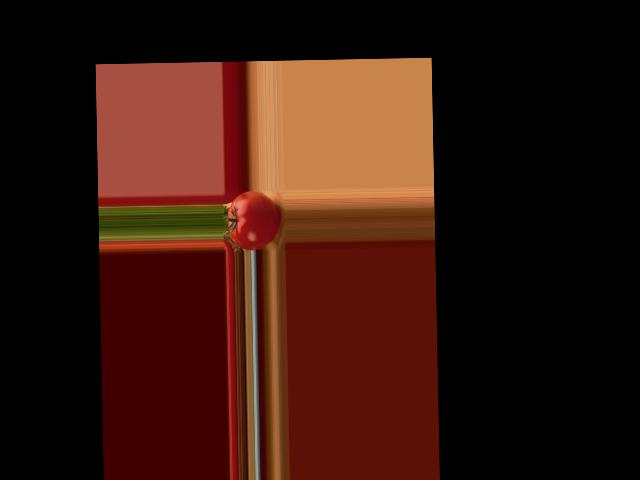tomato: (227, 190, 279, 250)
